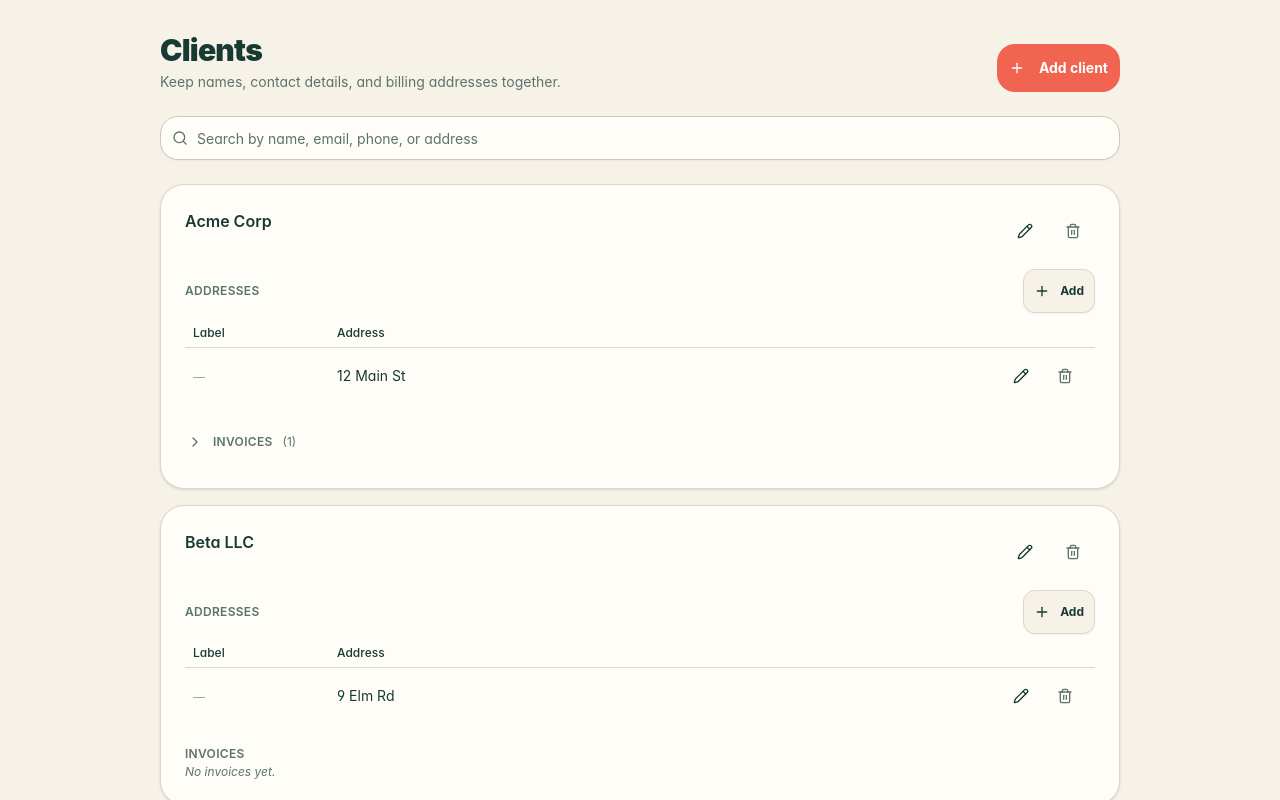
Test: lists a client's invoices in a collapsible section
Expected: the text "INV-ACME_01" is not shown
Click the button "Invoices (1)". click: (242, 442)
box: [177, 420, 306, 464]
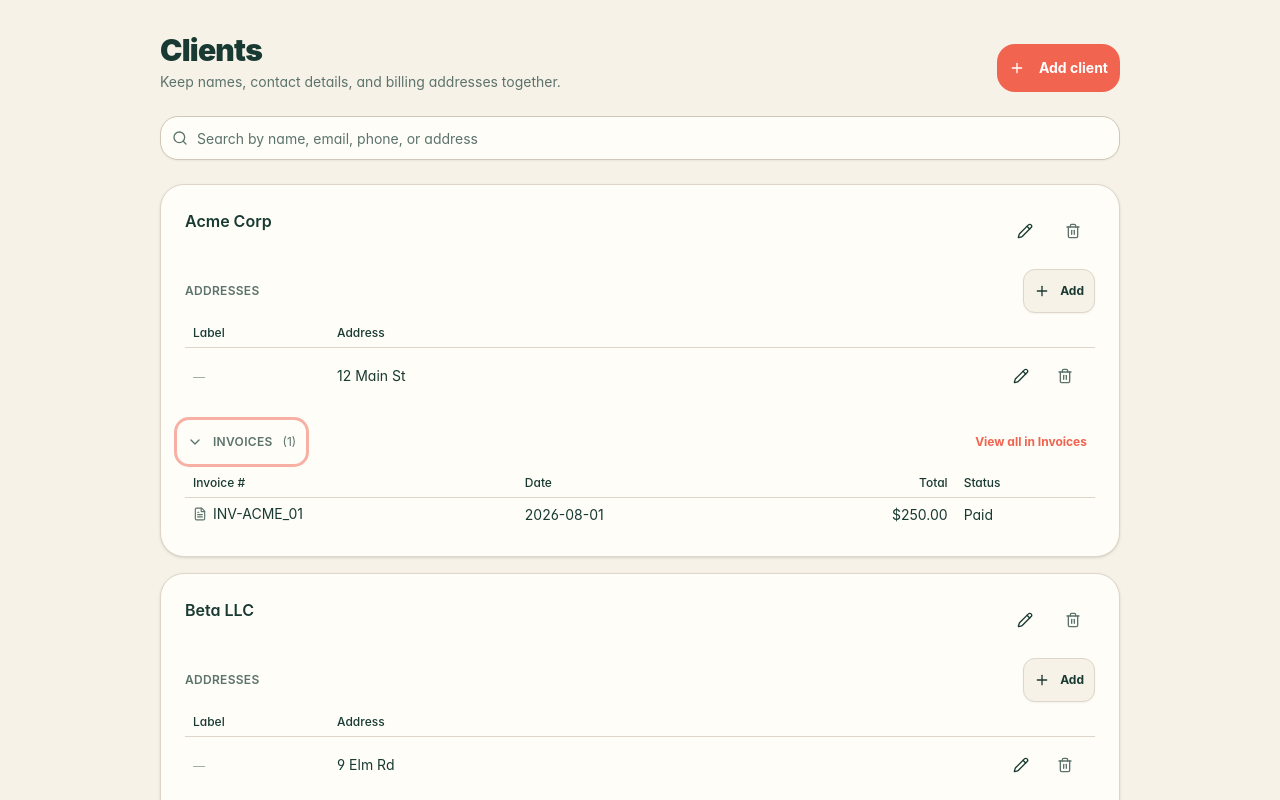
Now the text "INV-ACME_01" is shown, box [193, 504, 303, 524]
